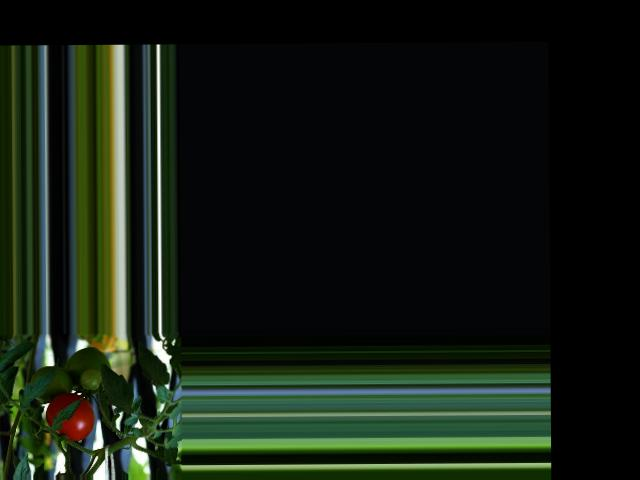tomato: (46, 393, 95, 441)
